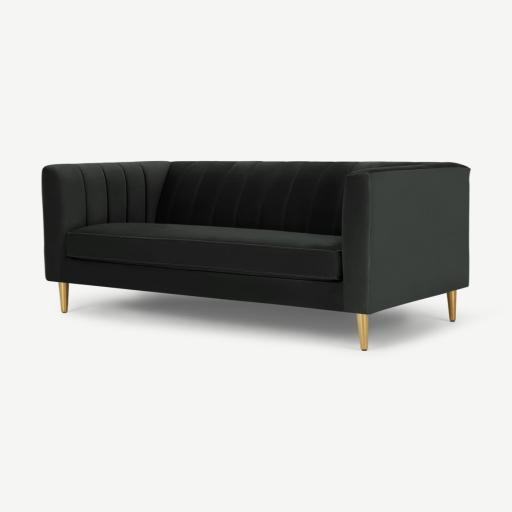back_cushion: (152, 162, 391, 235)
base: (61, 257, 352, 312)
left_arm: (342, 166, 469, 313)
legs: (357, 314, 368, 351), (447, 290, 456, 322), (59, 282, 68, 313)
one-seater: (42, 161, 470, 351)
right_arm: (42, 164, 108, 281)
seat_cushion: (67, 223, 342, 281)
